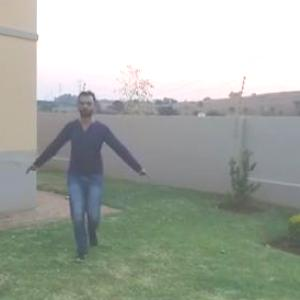land: (40, 97, 146, 234)
